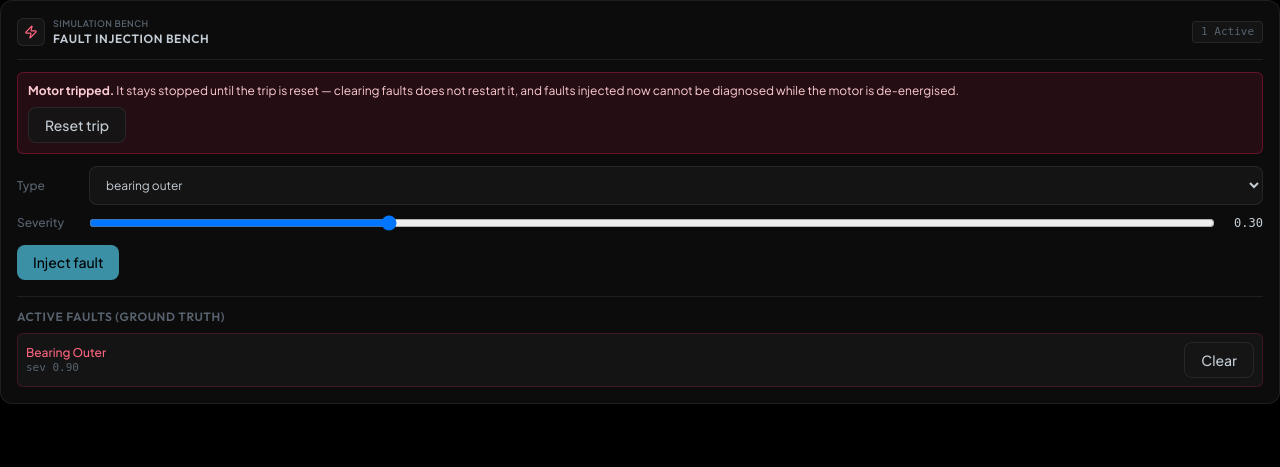
Scenario: Bug 3: default severity and trip reset UX › explains that clearing a fault while tripped does not restart the motor
Click the button with aria-label "clear fault 4" at (1219, 360), box [1184,342,1254,378]
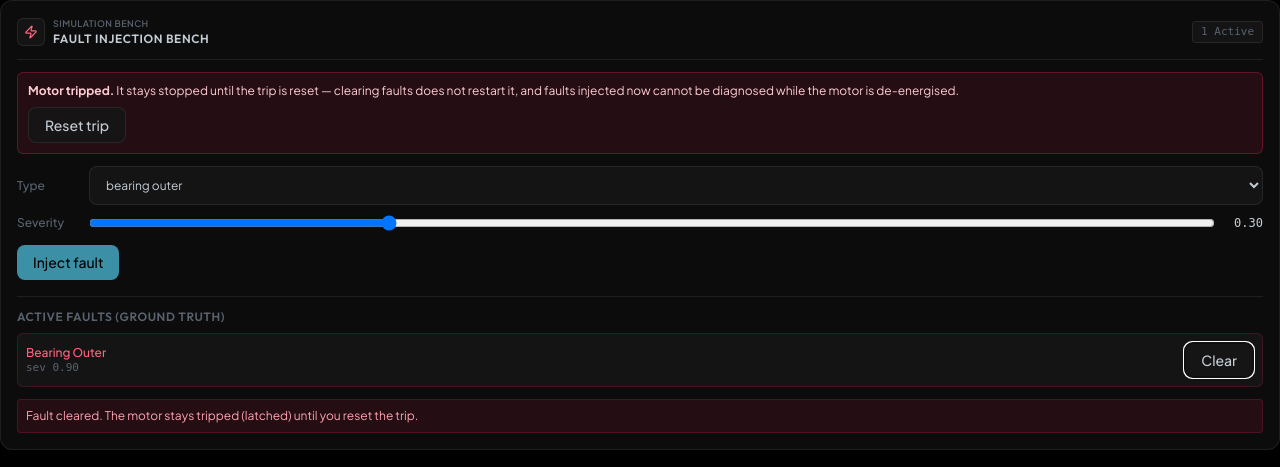
Expected: the text "Fault cleared. The motor stays tripped (latched) until you reset the trip." is shown, [17,400,1263,434]
